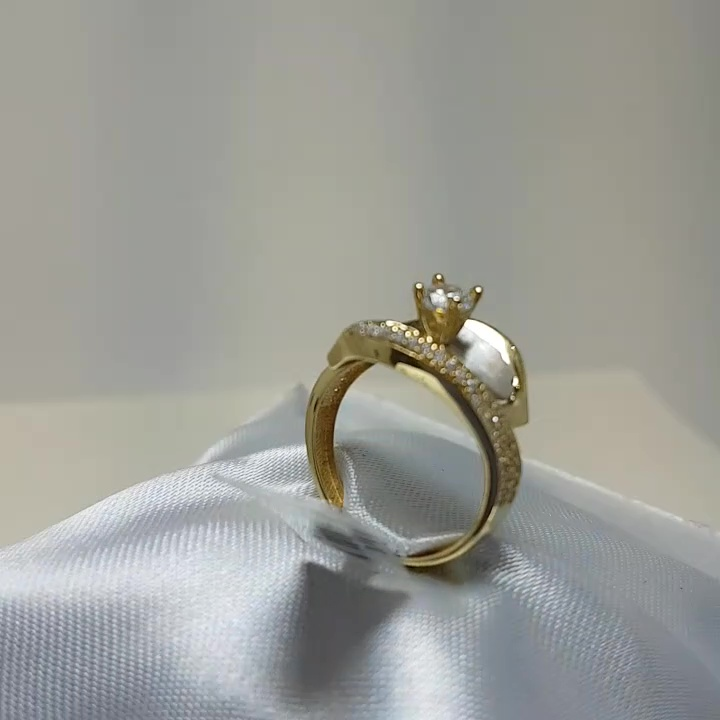Ring 6: (278, 261, 555, 578)
